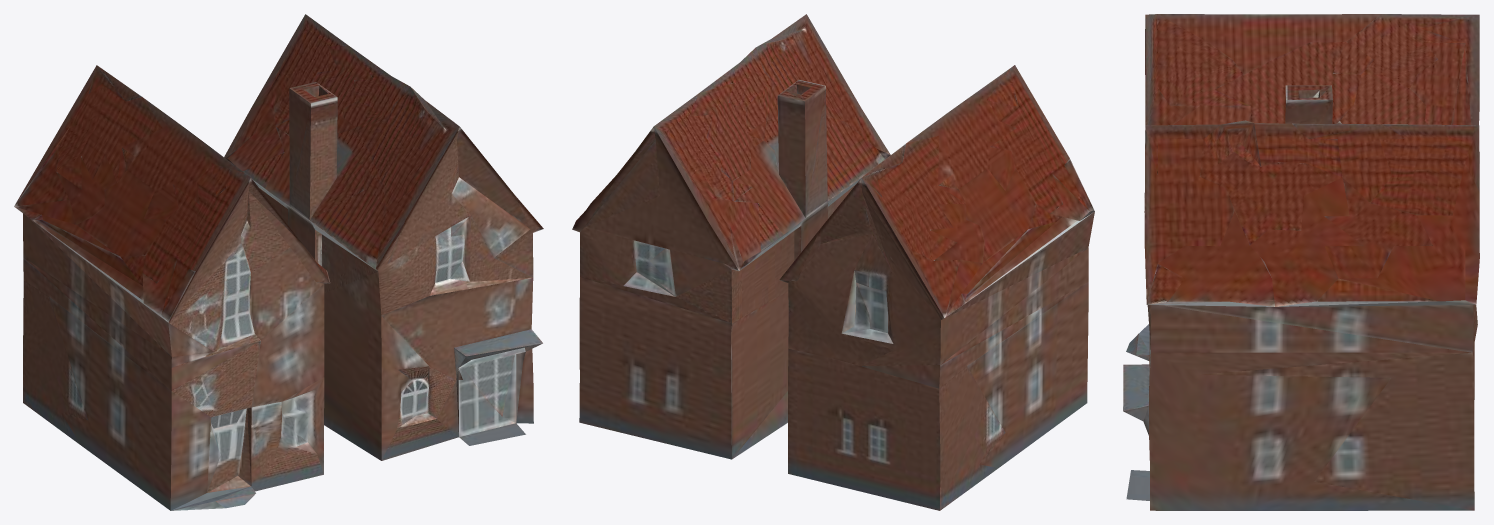
File: farHouseB.glb
The picture shows the model from 3 angles, left to right: view 1: azimuth 30°, elevation 25°; view 2: azimuth 150°, elevation 25°; view 3: azimuth 270°, elevation 25°; orthographic projection. The views are drawn at different scales.
Size of the model in its own units: 1.9 by 1.54 by 1.42.
Materials: 1 (1 with a texture image).
